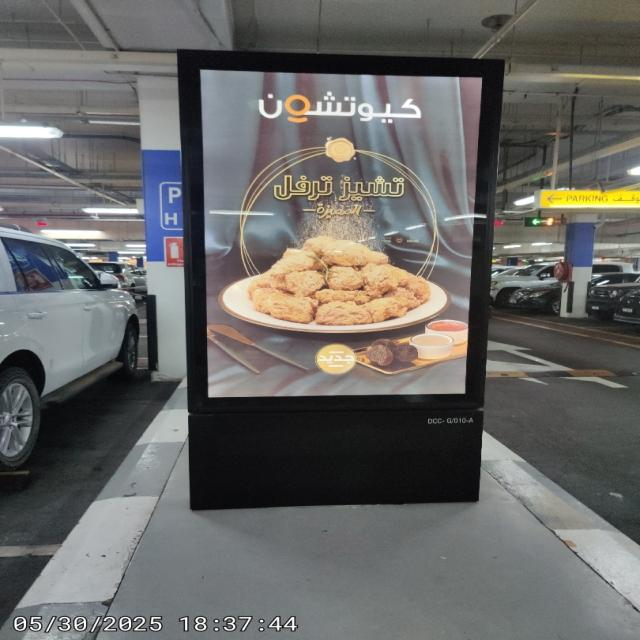mupi: (179, 46, 506, 511)
